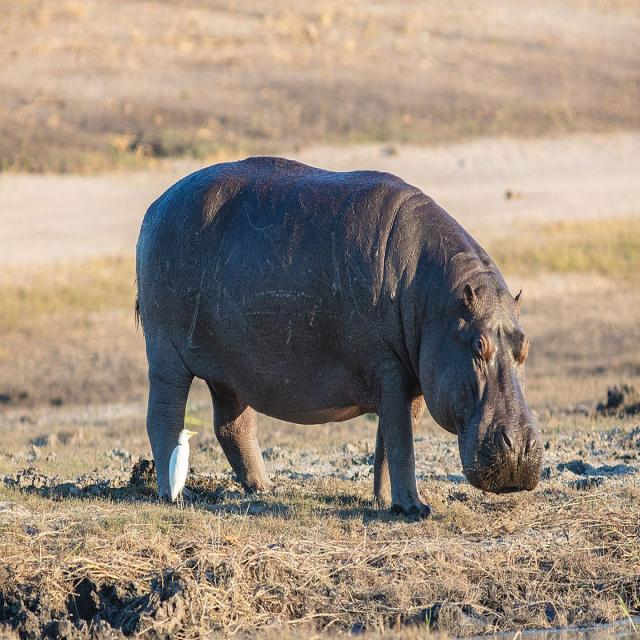Hippopotamus: (134, 151, 545, 531)
